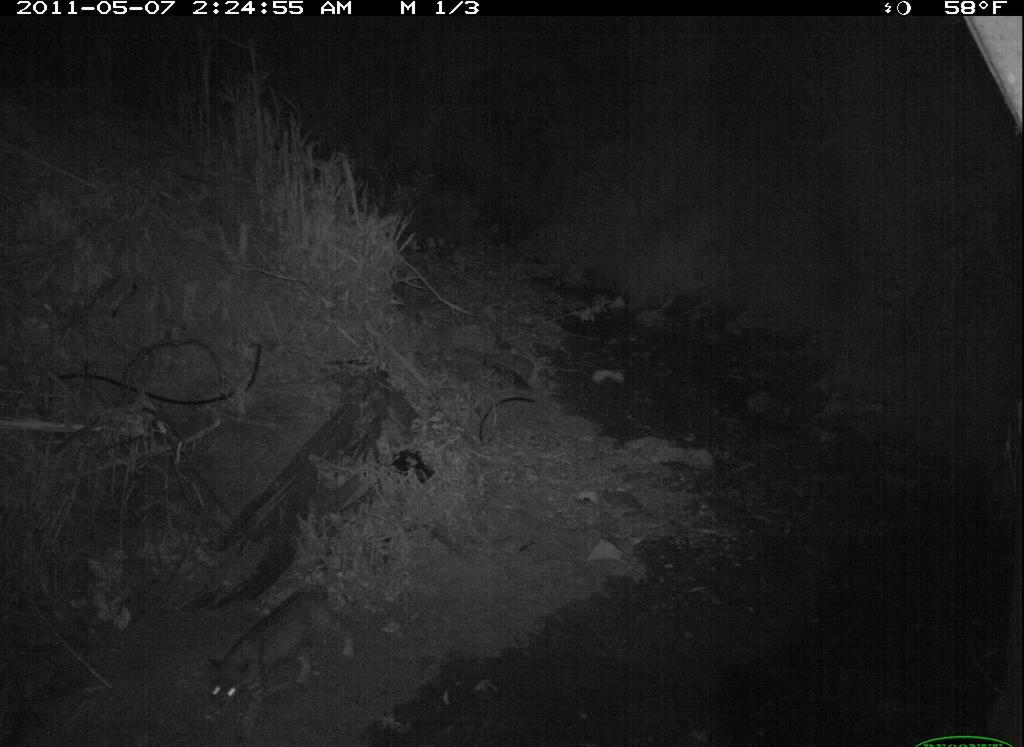bobcat: (189, 572, 369, 747)
